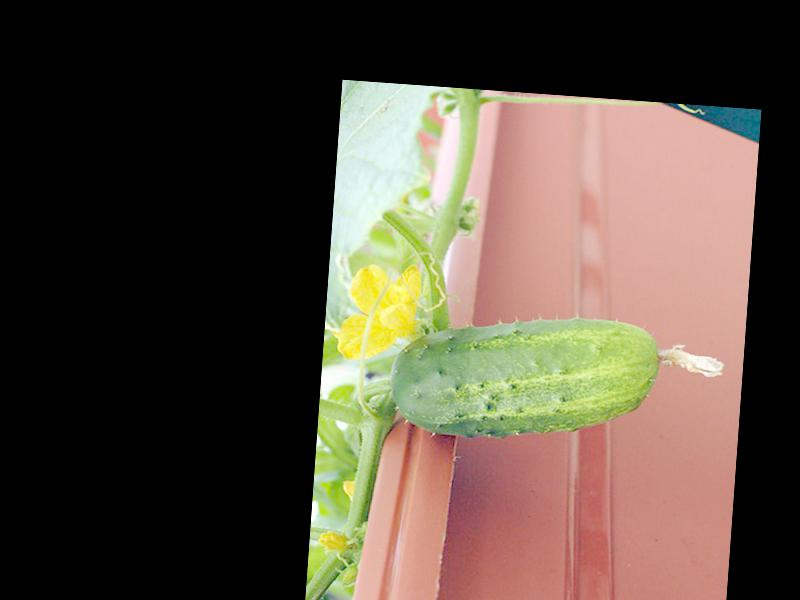Cucumber: (386, 303, 728, 454)
